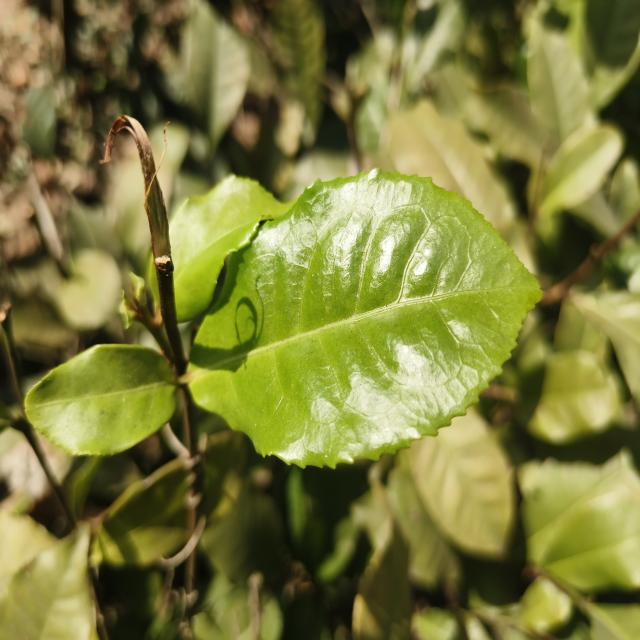Leaf: (189, 170, 540, 466), (378, 100, 515, 232), (170, 174, 291, 321), (399, 409, 515, 559), (25, 344, 176, 456), (531, 462, 640, 591), (0, 525, 97, 640), (182, 0, 251, 149), (517, 349, 623, 444), (538, 124, 623, 219), (271, 0, 325, 144), (570, 0, 640, 109), (527, 18, 588, 143), (352, 526, 412, 640), (463, 85, 545, 167)
